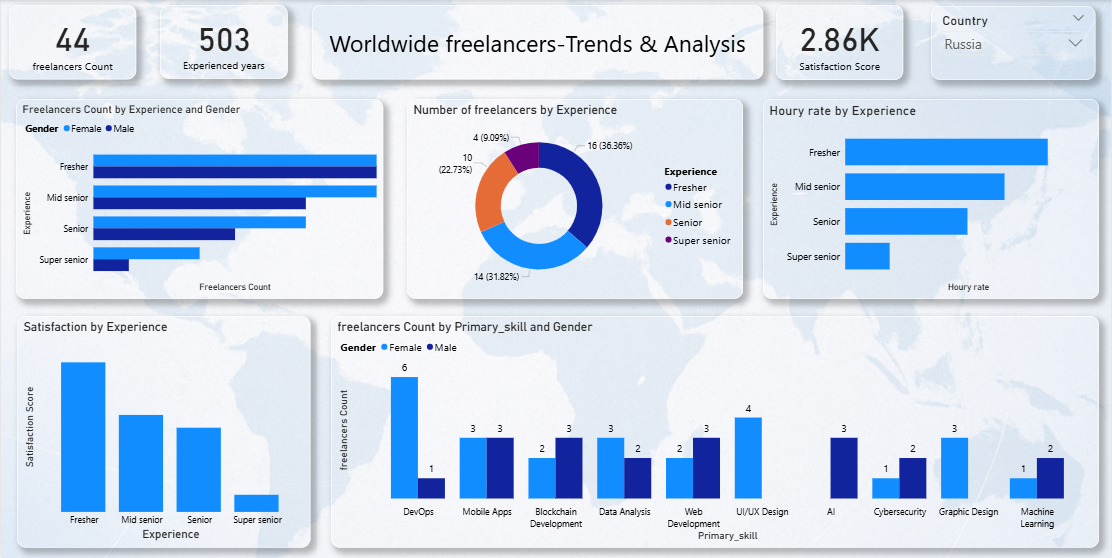

Layout of this report page (visuals, bound fields, positions):
{"tool":"powerbi","page":{"name":"Page 1","canvas":[1850,930],"ordinal":0},"visuals":[{"type":"donutChart","title":"Number of freelancers by Experience","fields":{"Category":["Table 1 (global_freelancers_raw).Experience(years) (groups)"],"Y":["CountNonNull(Table 1 (global_freelancers_raw).freelancer_ID)"]},"box":[676.4,165.7,559.7,333.1],"z":0},{"type":"columnChart","title":"Satisfaction by Experience","fields":{"Category":["Table 1 (global_freelancers_raw).Experience(years) (groups)"],"Y":["Sum(Table 1 (global_freelancers_raw).Satisfaction)"]},"box":[27.1,525.9,488.7,385.5],"z":1000},{"type":"clusteredColumnChart","fields":{"Category":["Table 1 (global_freelancers_raw).Primary_skill"],"Series":["Table 1 (global_freelancers_raw). Gender"],"Y":["CountNonNull(Table 1 (global_freelancers_raw).freelancer_ID)"]},"box":[549.5,525.9,1280,385.5],"z":2000},{"type":"barChart","fields":{"Category":["Table 1 (global_freelancers_raw).Experience(years) (groups)"],"Y":["Sum(Table 1 (global_freelancers_raw).Houry rate)"]},"box":[1269.9,165.7,559.7,333.1],"z":3000},{"type":"clusteredBarChart","title":"Freelancers Count by Experience and Gender","fields":{"Category":["Table 1 (global_freelancers_raw).Experience(years) (groups)"],"Y":["CountNonNull(Table 1 (global_freelancers_raw).freelancer_ID)"],"Series":["Table 1 (global_freelancers_raw). Gender"]},"box":[25.4,165.7,612.1,333.1],"z":4000},{"type":"card","fields":{"Values":["CountNonNull(Table 1 (global_freelancers_raw).freelancer_ID)"]},"box":[26.7,8.9,159.9,122.6],"z":5000},{"type":"card","fields":{"Values":["Sum(Table 1 (global_freelancers_raw).Experience(years))"]},"box":[207.9,10.7,284.3,122.6],"z":6000},{"type":"slicer","fields":{"Values":["Table 1 (global_freelancers_raw).Country"]},"box":[1550,10,273.3,123.3],"z":7000},{"type":"card","fields":{"Values":["Sum(Table 1 (global_freelancers_raw).Satisfaction)"]},"box":[1292.3,8.3,212.3,124.9],"z":8000},{"type":"shape","box":[518.9,8.9,751.7,124.4],"z":9000}]}

Visuals, with their boxes in screenshot pixels (x1, y1, x2, y2), scaled from the page's 1850x930 canvas onto the 1112x558 screenshot:
"Number of freelancers by Experience" donutChart: (left=407, top=99, right=743, bottom=299)
"Satisfaction by Experience" columnChart: (left=16, top=316, right=310, bottom=547)
clusteredColumnChart - Table 1 (global_freelancers_raw).Primary_skill x Table 1 (global_freelancers_raw). Gender: (left=330, top=316, right=1100, bottom=547)
barChart - Table 1 (global_freelancers_raw).Experience(years) (groups) x Sum(Table 1 (global_freelancers_raw).Houry rate): (left=763, top=99, right=1100, bottom=299)
"Freelancers Count by Experience and Gender" clusteredBarChart: (left=15, top=99, right=383, bottom=299)
card - CountNonNull(Table 1 (global_freelancers_raw).freelancer_ID): (left=16, top=5, right=112, bottom=79)
card - Sum(Table 1 (global_freelancers_raw).Experience(years)): (left=125, top=6, right=296, bottom=80)
slicer - Table 1 (global_freelancers_raw).Country: (left=932, top=6, right=1096, bottom=80)
card - Sum(Table 1 (global_freelancers_raw).Satisfaction): (left=777, top=5, right=904, bottom=80)
shape: (left=312, top=5, right=764, bottom=80)
